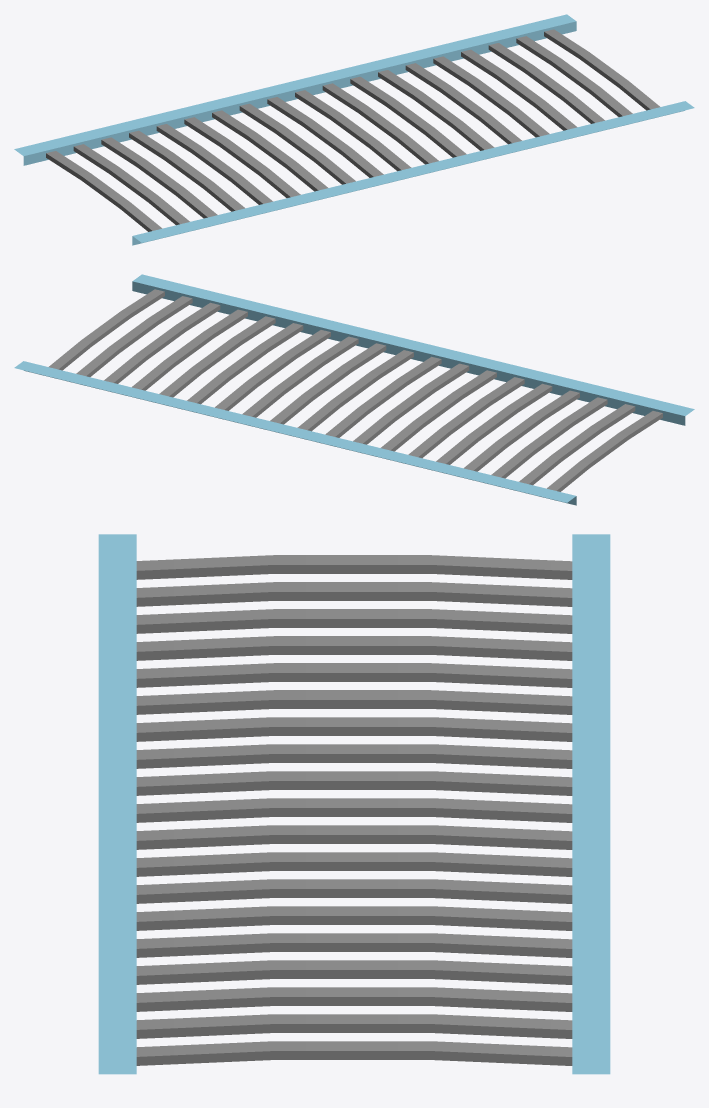
Rendered from FURNITURE_singleBedInside_01.FBX.
3 renders of one model, top to bottom at view 1: azimuth 30°, elevation 25°; view 2: azimuth 150°, elevation 25°; view 3: azimuth 270°, elevation 25°, orthographic. The views are drawn at different scales.
Parts seen in each view (by area): view 1: PROP_singleBedInside_01; view 2: PROP_singleBedInside_01; view 3: PROP_singleBedInside_01.
Boxes of the visible parts, left/top/right/bottom form: PROP_singleBedInside_01: left=14, top=14, right=694, bottom=245; PROP_singleBedInside_01: left=14, top=274, right=694, bottom=505; PROP_singleBedInside_01: left=98, top=534, right=610, bottom=1074.
Size of the model in its own units: 250 by 4.45 by 100.
